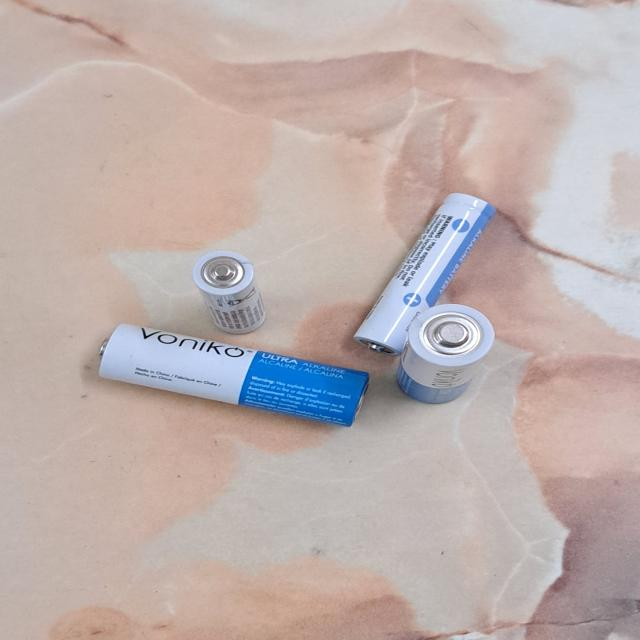battery: (95, 322, 372, 426), (352, 192, 497, 358), (394, 303, 496, 404), (193, 249, 268, 335)
